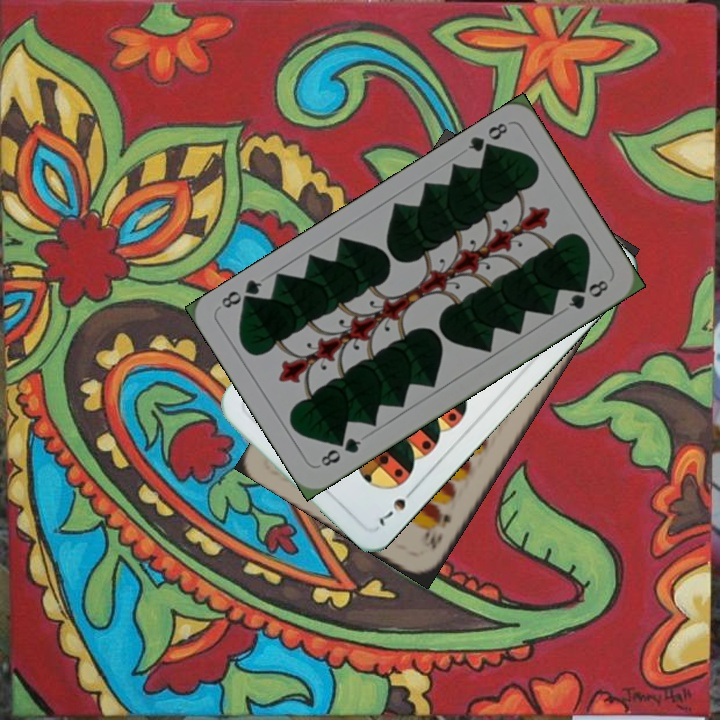E10: (419, 506, 454, 552)
G8: (464, 118, 511, 159), (317, 433, 364, 470)
S7: (374, 482, 419, 529)
